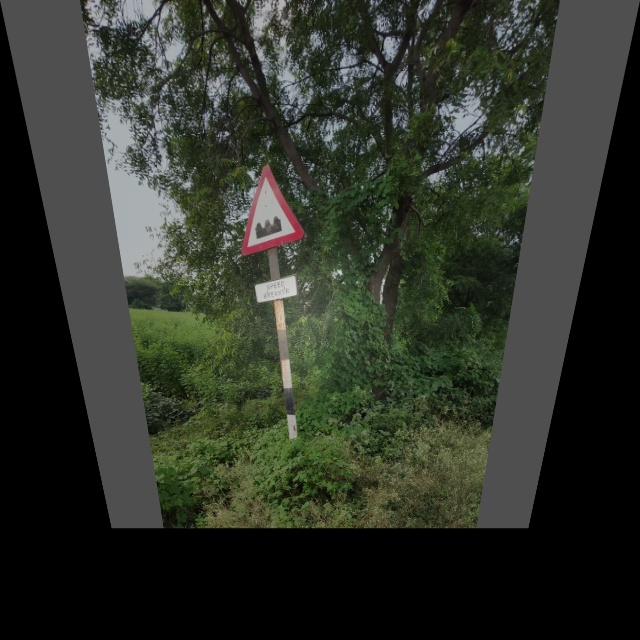Hump_or_Rough_Road: (234, 163, 307, 253)
